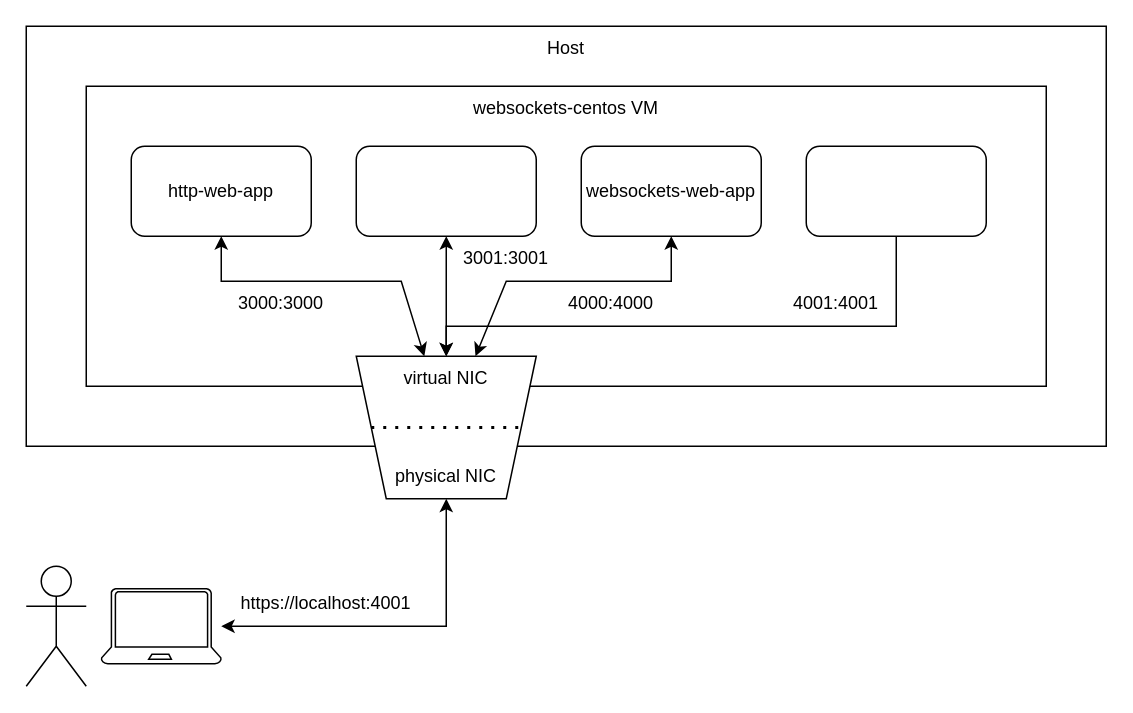
Image size: 1133x713. Some labels were removed from this diagram. Each missing label, with the box of its shape:
https-web-app: (355, 145, 536, 236)
wss-web-app: (805, 145, 986, 236)
